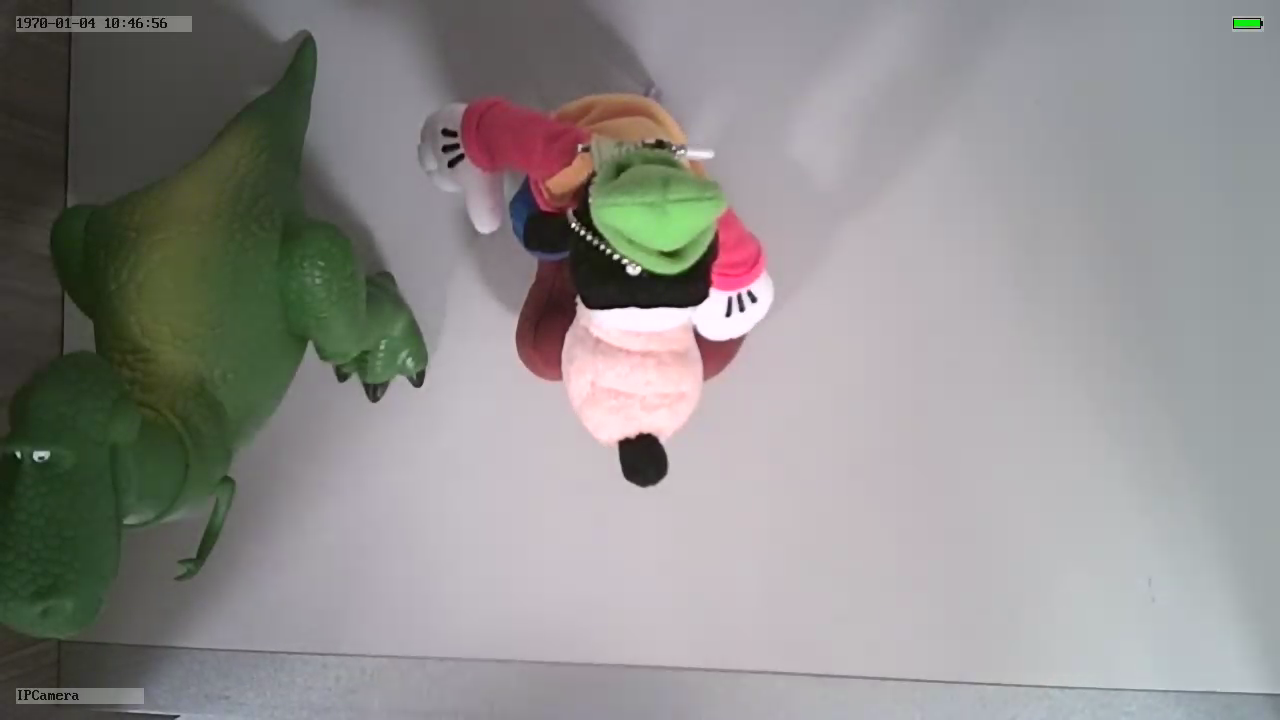goofy: (415, 92, 779, 490)
